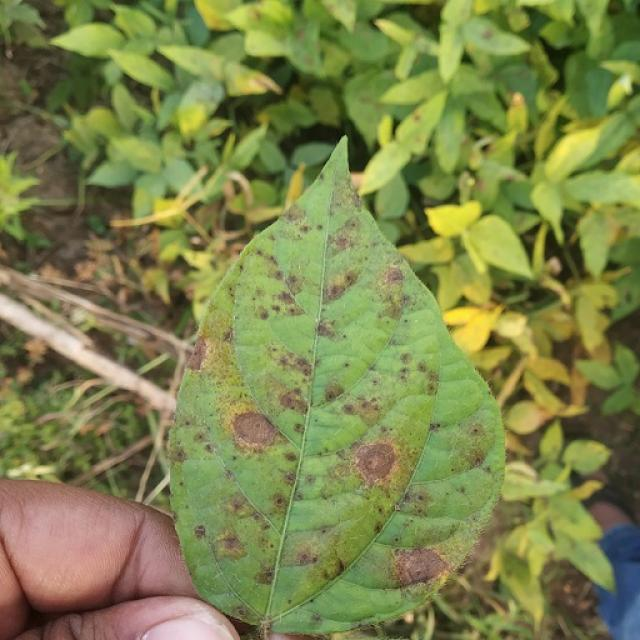Anthracnose: (312, 189, 384, 330), (181, 334, 257, 467), (300, 427, 410, 509), (242, 357, 313, 448), (223, 402, 303, 453), (326, 152, 362, 219), (394, 546, 450, 586), (352, 441, 399, 486), (231, 410, 278, 449), (268, 346, 313, 382), (212, 535, 247, 562), (185, 337, 209, 371), (324, 279, 350, 303), (253, 614, 281, 636), (280, 390, 304, 412), (284, 273, 306, 297), (383, 266, 404, 288), (324, 381, 345, 402), (333, 231, 353, 250), (316, 320, 337, 338), (256, 567, 275, 584), (276, 291, 295, 307), (331, 558, 346, 575), (295, 550, 311, 565), (193, 524, 207, 539), (366, 456, 380, 470), (235, 606, 249, 618), (257, 307, 269, 320), (481, 28, 493, 40), (274, 496, 285, 506), (311, 613, 322, 623), (471, 427, 480, 435)
Blackgram: (170, 139, 504, 632)
